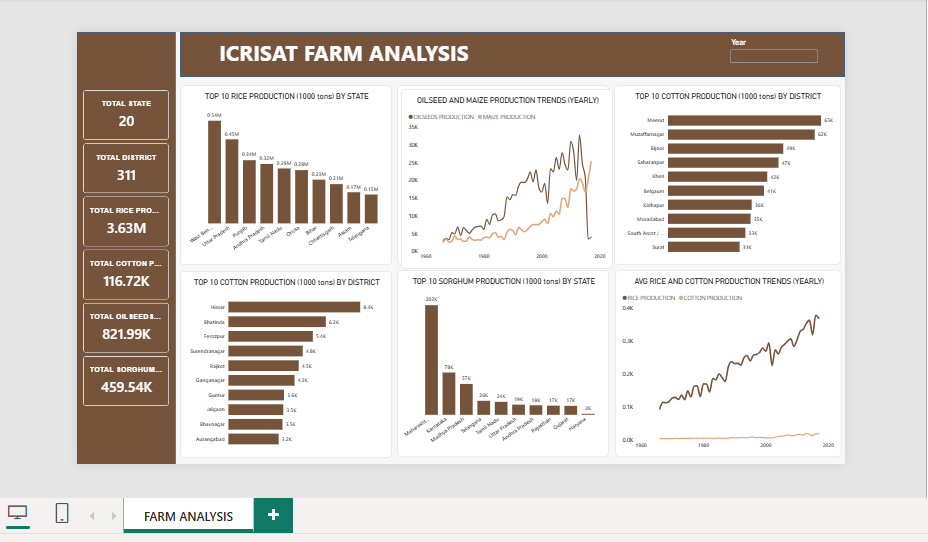

This screenshot's page, from the dashboard's own definition file:
{"tool":"powerbi","page":{"name":"FARM ANALYSIS","canvas":[1920,1080],"ordinal":0},"visuals":[{"type":"shape","box":[0,0,246.7,1080],"z":0},{"type":"shape","box":[257.5,0,1662.5,112.5],"z":1000},{"type":"clusteredColumnChart","title":"TOP 10 RICE PRODUCTION (1000 tons) BY STATE","fields":{"Category":["ICRISAT-District Level Data.State Name"],"Y":["Sum(ICRISAT-District Level Data.RICE PRODUCTION (1000 tons))"]},"box":[256.7,133.3,530,450],"z":2000},{"type":"lineChart","title":"AVG OILSEED AND MAIZE PRODUCTION TRENDS (YEARLY)","fields":{"Category":["ICRISAT-District Level Data.Year"],"Y":["Avg(ICRISAT-District Level Data.OILSEEDS PRODUCTION (1000 tons))","Avg(ICRISAT-District Level Data.MAIZE PRODUCTION (1000 tons))"]},"box":[800,133.3,530,450],"z":3000},{"type":"clusteredColumnChart","title":"TOP 10 SORGHUM PRODUCTION (1000 tons) BY STATE","fields":{"Category":["ICRISAT-District Level Data.State Name"],"Y":["Sum(ICRISAT-District Level Data.SORGHUM PRODUCTION (1000 tons))"]},"box":[800,596,530,468],"z":4000},{"type":"clusteredBarChart","title":"TOP 10 COTTON PRODUCTION (1000 tons) BY DISTRICT","fields":{"Category":["ICRISAT-District Level Data.Dist Name"],"Y":["Sum(ICRISAT-District Level Data.COTTON PRODUCTION (1000 tons))"]},"box":[256.7,596.7,530,466.7],"z":5000},{"type":"clusteredBarChart","title":"TOP 10 COTTON PRODUCTION (1000 tons) BY DISTRICT","fields":{"Category":["ICRISAT-District Level Data.Dist Name"],"Y":["Sum(ICRISAT-District Level Data.SUGARCANE PRODUCTION (1000 tons))"]},"box":[1343.3,133.3,566.7,450],"z":6000},{"type":"lineChart","title":"AVG RICE AND COTTON PRODUCTION TRENDS (YEARLY)","fields":{"Category":["ICRISAT-District Level Data.Year"],"Y":["Avg(ICRISAT-District Level Data.RICE PRODUCTION (1000 tons))","Avg(ICRISAT-District Level Data.COTTON PRODUCTION (1000 tons))"]},"box":[1344,596,566,468],"z":7000},{"type":"textbox","box":[292.5,15,750,72.5],"z":8000},{"type":"cardVisual","fields":{"Data":["Count(ICRISAT-District Level Data.State Name)","Count(ICRISAT-District Level Data.Dist Name)","Sum(ICRISAT-District Level Data.RICE PRODUCTION (1000 tons))","Sum(ICRISAT-District Level Data.COTTON PRODUCTION (1000 tons))","Sum(ICRISAT-District Level Data.OILSEEDS PRODUCTION (1000 tons))","Sum(ICRISAT-District Level Data.SORGHUM PRODUCTION (1000 tons))"]},"box":[15,145,215,790],"z":9000},{"type":"slicer","fields":{"Values":["ICRISAT-District Level Data.Year"]},"box":[1627.5,15,230,77.5],"z":9001}]}

Visuals, with their boxes on the page's 1920x1080 design canvas (x1, y1, x2, y2). These are canvas units, not pixel positions in the 928x542 screenshot, which may show the page scaled, cropped or inside an application window:
shape: 0/0/247/1080
shape: 258/0/1920/112
"TOP 10 RICE PRODUCTION (1000 tons) BY STATE" clusteredColumnChart: 257/133/787/583
"AVG OILSEED AND MAIZE PRODUCTION TRENDS (YEARLY)" lineChart: 800/133/1330/583
"TOP 10 SORGHUM PRODUCTION (1000 tons) BY STATE" clusteredColumnChart: 800/596/1330/1064
"TOP 10 COTTON PRODUCTION (1000 tons) BY DISTRICT" clusteredBarChart: 257/597/787/1063
"TOP 10 COTTON PRODUCTION (1000 tons) BY DISTRICT" clusteredBarChart: 1343/133/1910/583
"AVG RICE AND COTTON PRODUCTION TRENDS (YEARLY)" lineChart: 1344/596/1910/1064
textbox: 292/15/1042/88
cardVisual - Count(ICRISAT-District Level Data.State Name) x Count(ICRISAT-District Level Data.Dist Name): 15/145/230/935
slicer - ICRISAT-District Level Data.Year: 1628/15/1858/92
